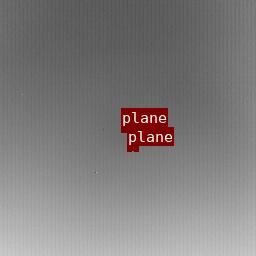plane: (121, 127, 135, 132), (127, 146, 138, 149)
